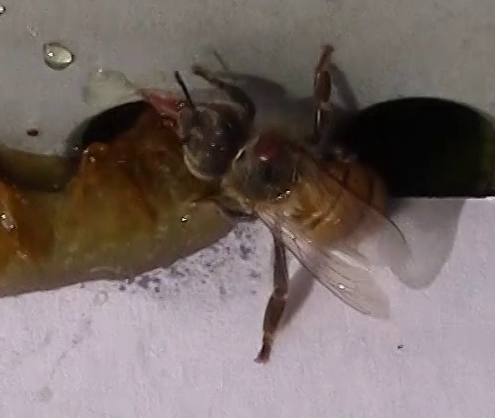Varroa destructor: (249, 132, 288, 165)
